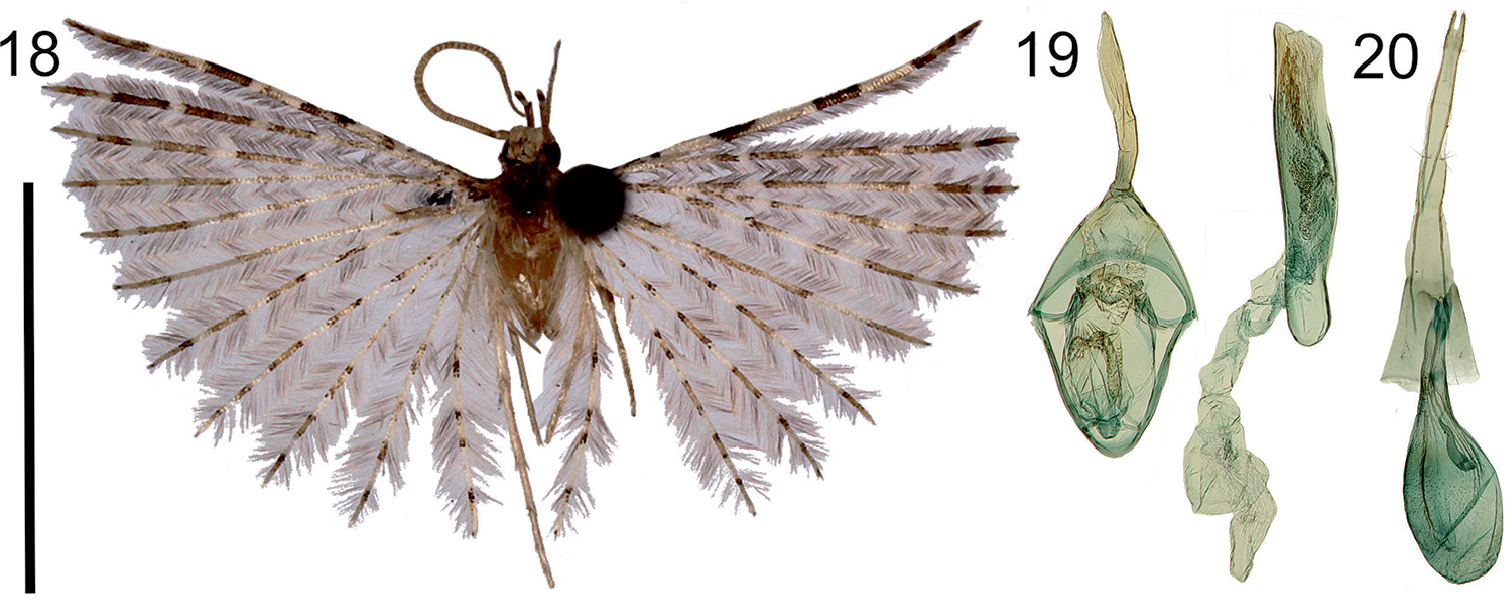Alucitidae: (44, 1, 1015, 586)
moth: (46, 2, 1017, 588)
